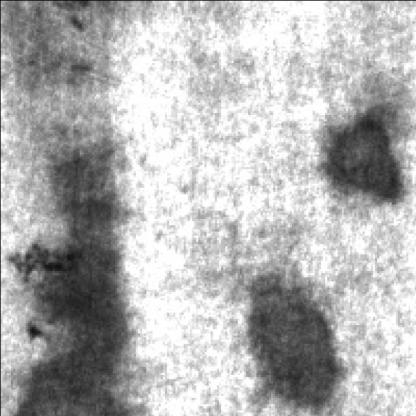patches: (14, 199, 131, 416), (244, 270, 348, 416), (314, 106, 410, 208), (52, 145, 125, 277)
